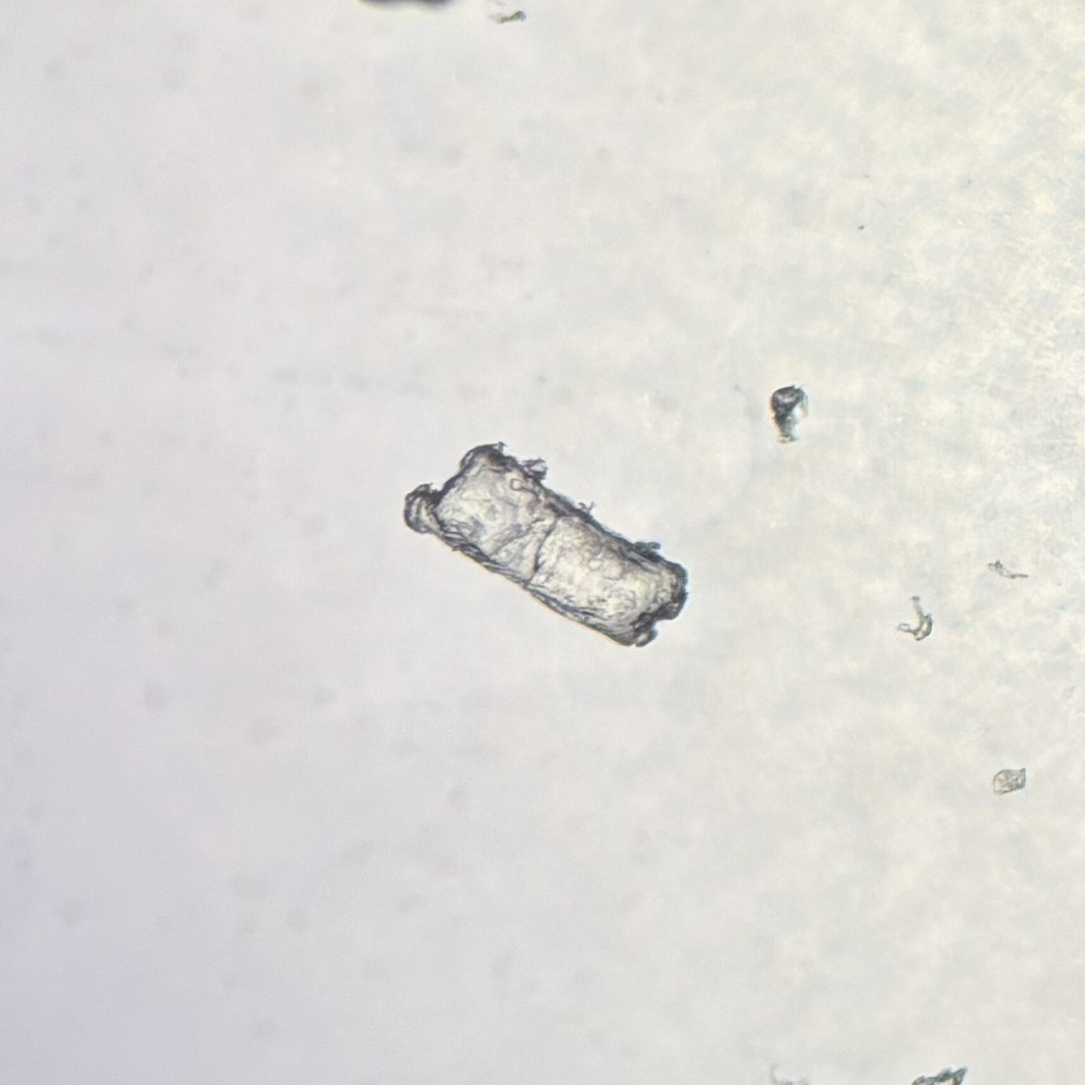microplastic: (405, 444, 689, 647), (769, 383, 807, 445), (899, 594, 932, 643), (483, 1, 528, 29), (358, 1, 459, 13), (989, 766, 1028, 796), (911, 1066, 967, 1085), (987, 559, 1031, 582)
